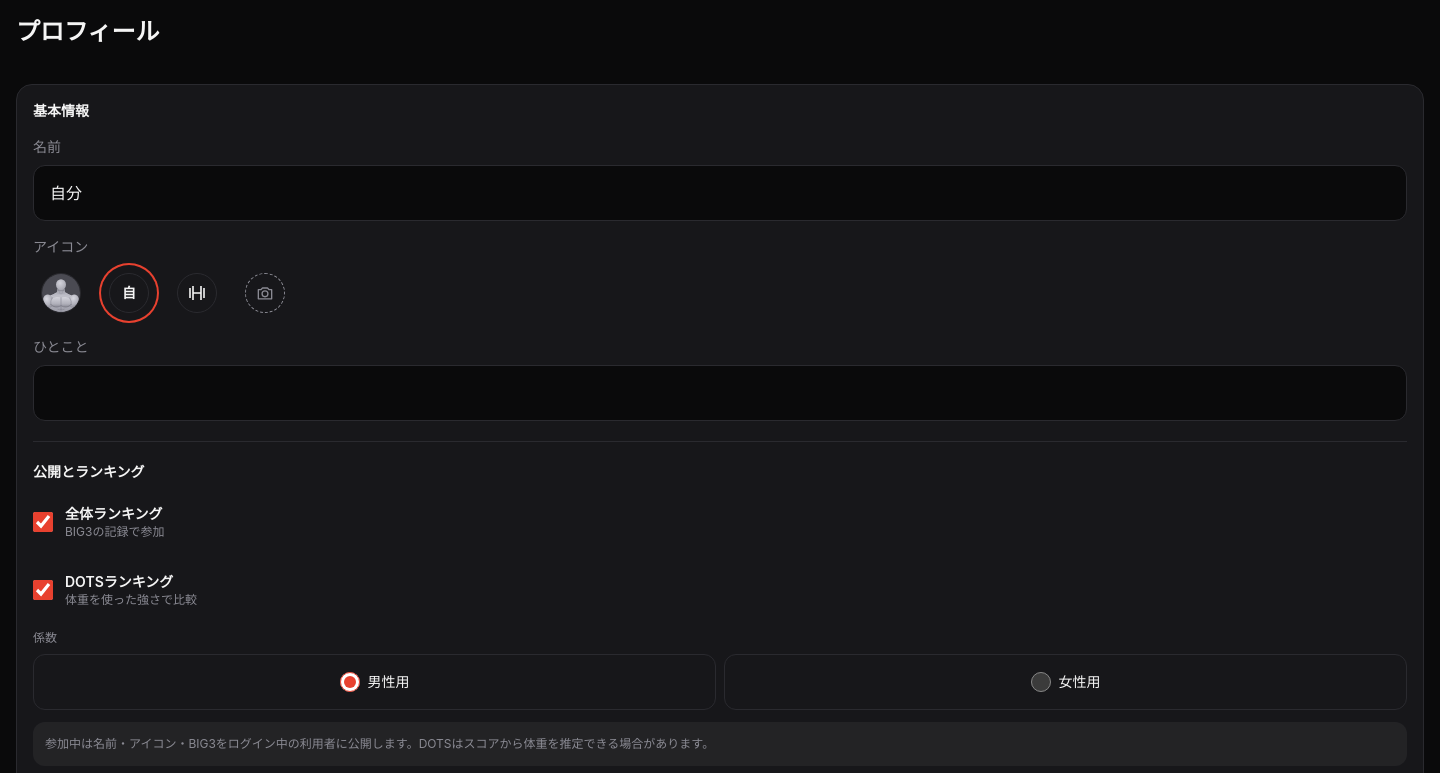
keeps the error on screen when only the DOTS settings fail to save
The width and height of the screenshot is (1440, 773).
Click the radio button labelled "女性用" at (1040, 682), box [1030,672,1050,692]
(page scrolled)
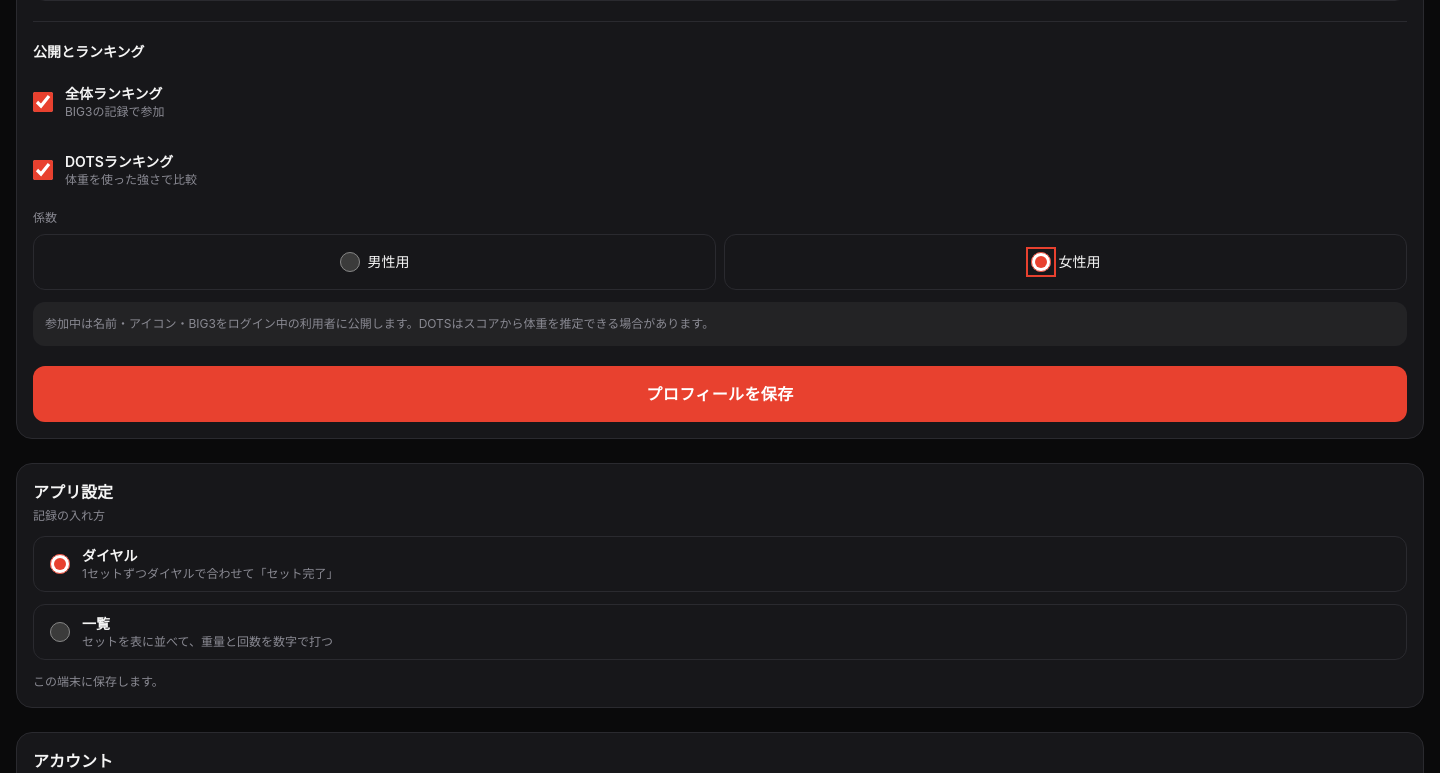
Click the button "プロフィールを保存" at (720, 394), box [33,366,1407,422]
(page scrolled)
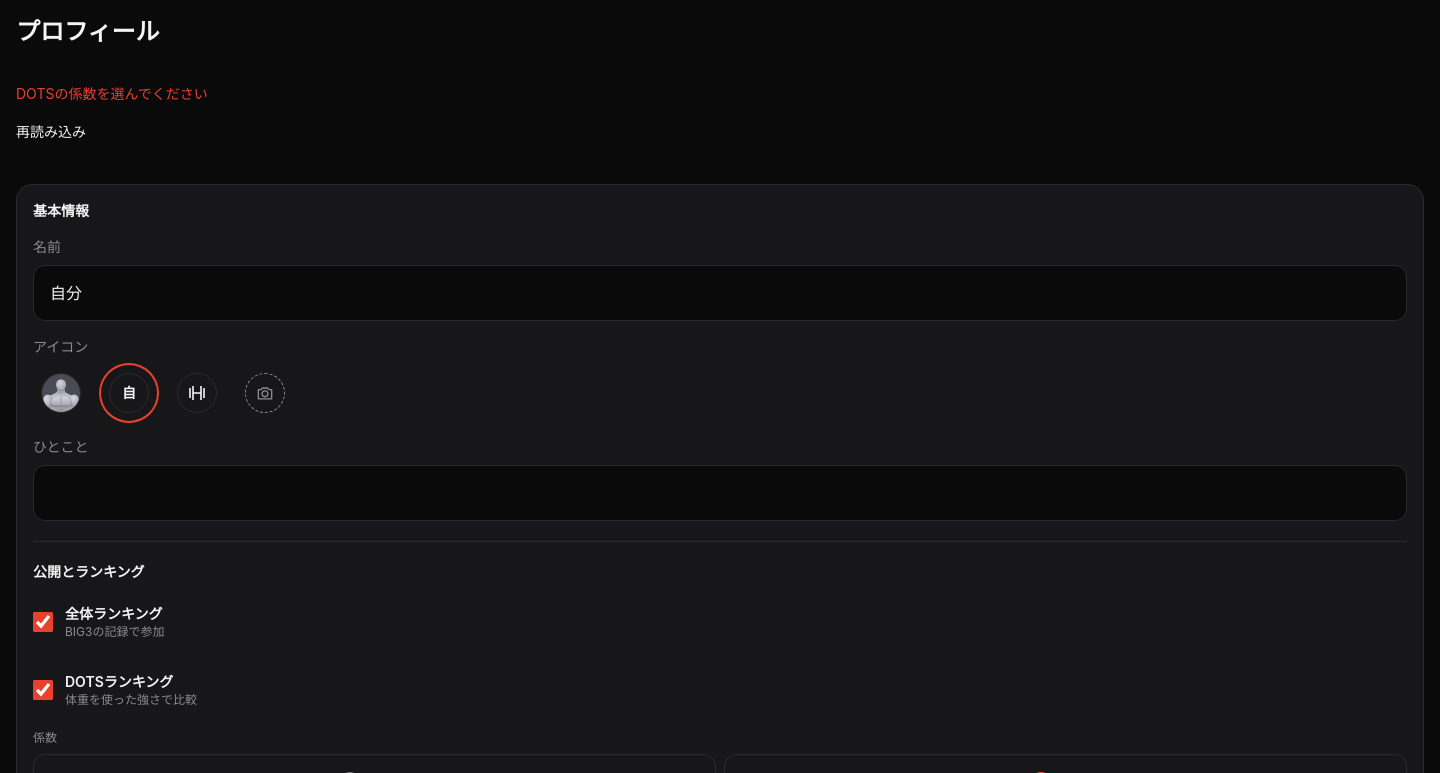
expect the message reads "DOTSの係数を選んでください": met, box [16,85,208,102]
